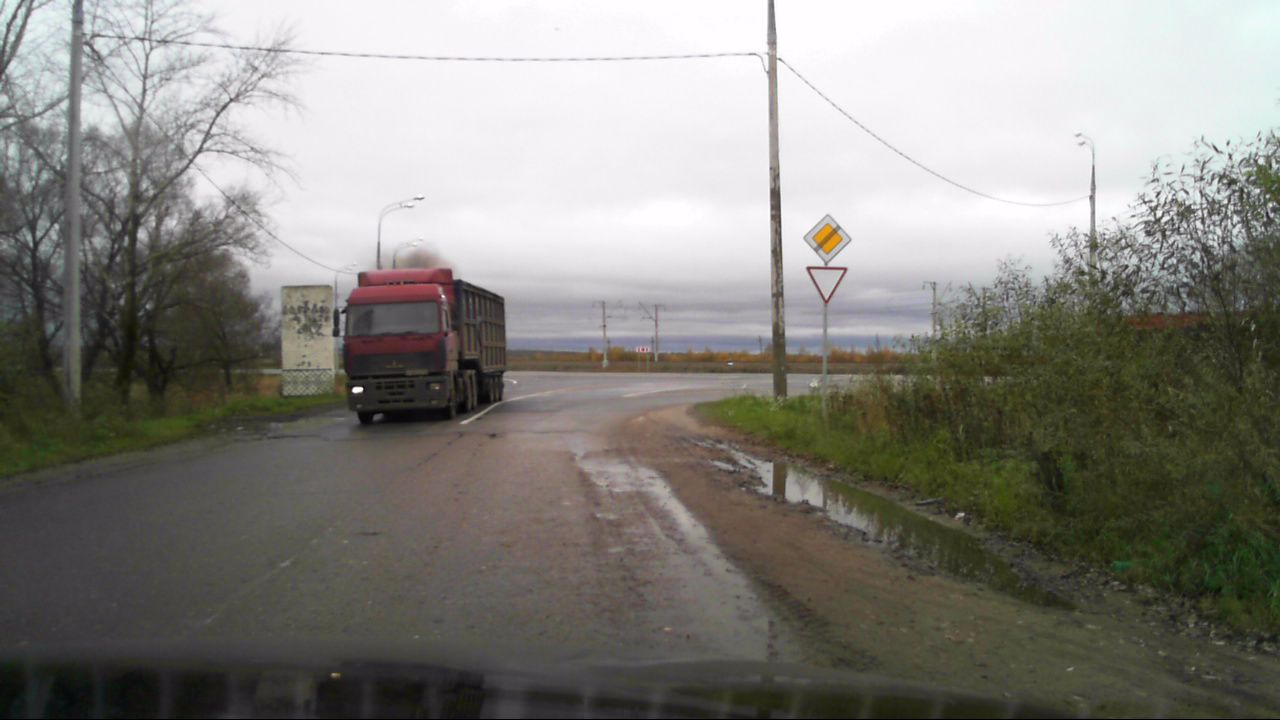main road: (800, 213, 853, 266)
